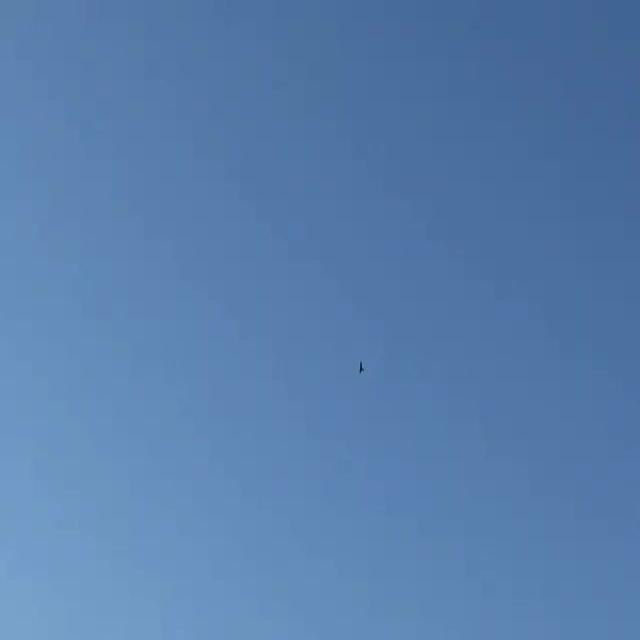bird: (356, 363, 372, 377)
